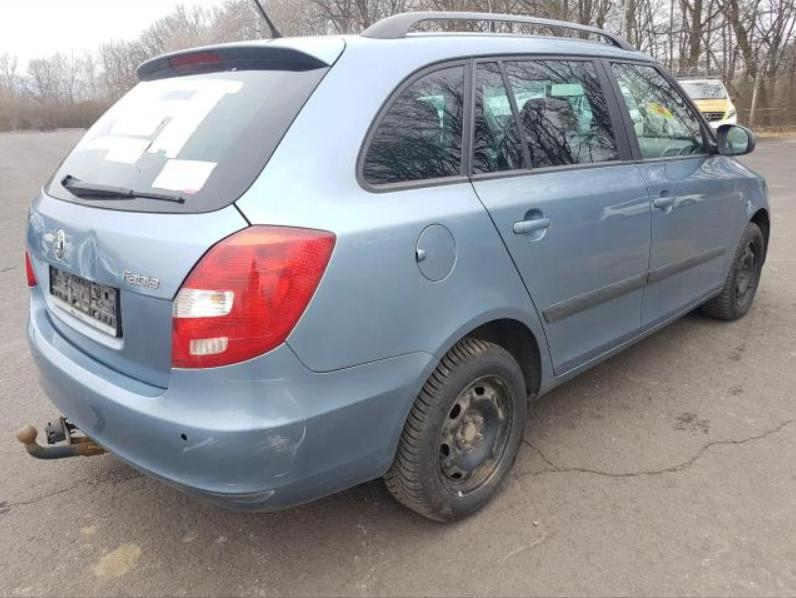Back-bumper: (26, 286, 441, 513)
Back-door: (470, 55, 650, 376)
Back-wheel: (384, 339, 528, 522)
Back-window: (472, 60, 619, 174), (364, 63, 465, 184)
Back-windshield: (44, 58, 332, 213)
Fender: (721, 154, 770, 234)
Front-door: (601, 58, 743, 332)
Front-wheel: (700, 222, 764, 320)
Front-window: (609, 62, 704, 159)
License-plate: (49, 267, 117, 334)
Mirror: (701, 121, 756, 156)
Quarter-panel: (233, 177, 556, 381)
Rocker-panel: (534, 287, 722, 402)
Roof: (310, 31, 612, 45)
Tail-light: (171, 224, 336, 369), (26, 247, 37, 285)
Trunk: (26, 187, 249, 388), (137, 34, 345, 80)
